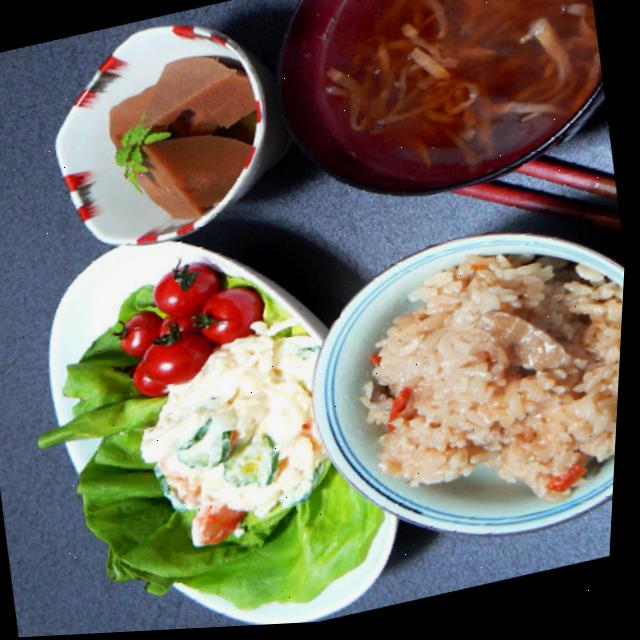汤锅炖物: (269, 0, 619, 219)
米饭主食: (277, 198, 631, 595)
蔬菜料理: (112, 324, 383, 568)
